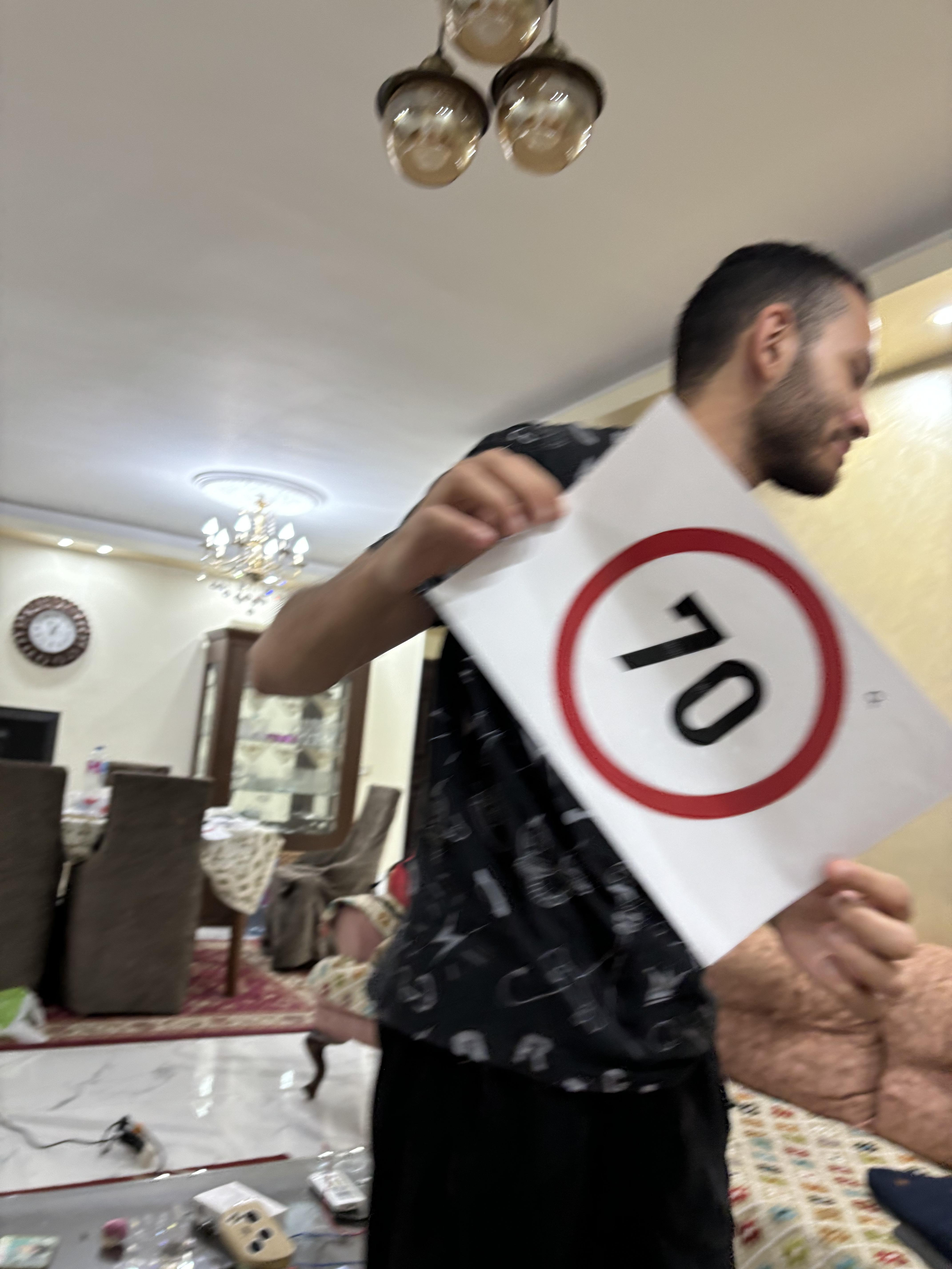70-Speed: (560, 516, 852, 817)
